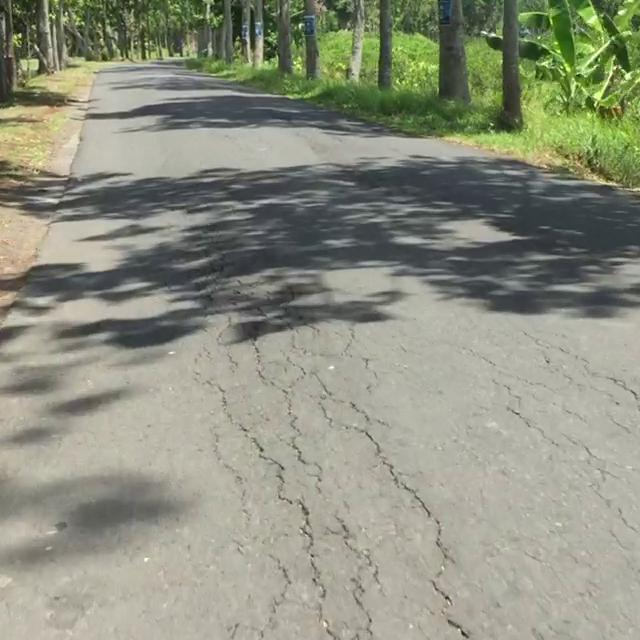retak_kulit_buaya: (185, 331, 452, 640), (482, 327, 640, 592)
